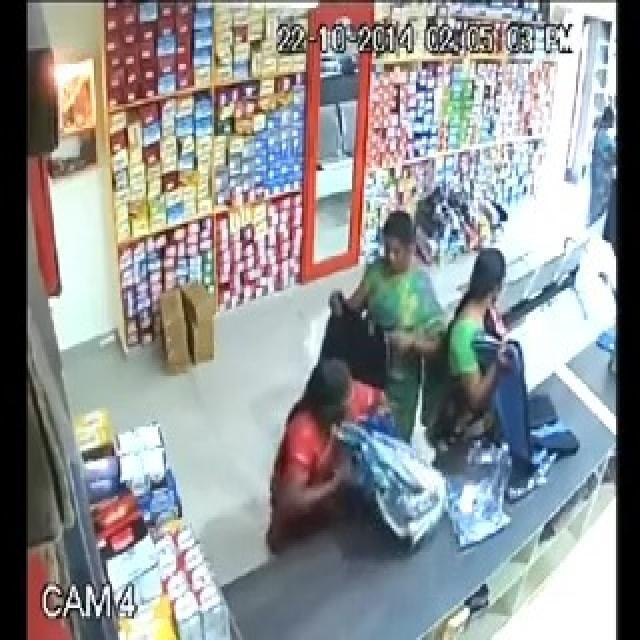Normal: (254, 331, 436, 568), (444, 230, 588, 510), (314, 204, 449, 432)
